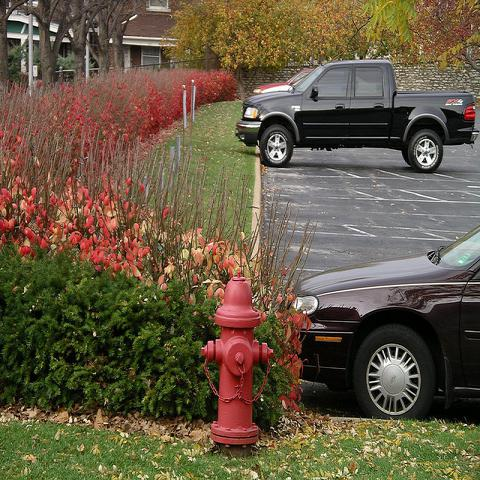car: (292, 228, 479, 421), (252, 66, 314, 92), (260, 69, 314, 94)
truck: (234, 62, 476, 176)
